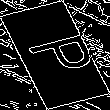P_E: (13, 29, 97, 81)
